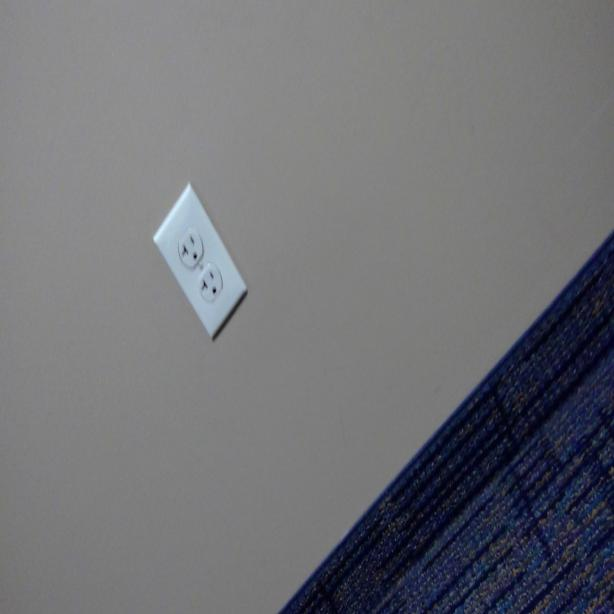typeb: (178, 229, 202, 267), (197, 268, 220, 301)
